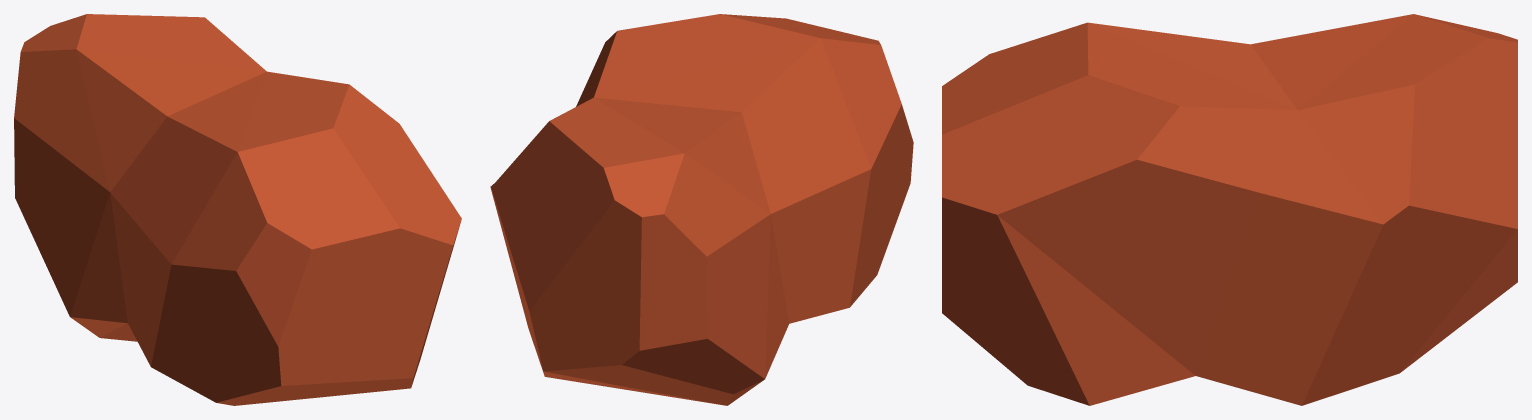
File: Rock_05.fbx
3 renders of one model, left to right at view 1: azimuth 30°, elevation 25°; view 2: azimuth 150°, elevation 25°; view 3: azimuth 270°, elevation 25°, orthographic. The views are drawn at different scales.
Parts seen in each view (by area): view 1: Rock_05; view 2: Rock_05; view 3: Rock_05.
Part boxes in pixels (left/top/right/bottom): Rock_05: left=14, top=14, right=461, bottom=405; Rock_05: left=490, top=14, right=913, bottom=405; Rock_05: left=942, top=14, right=1517, bottom=405.
Size of the model in its own units: 332 by 346 by 612.
Materials: 1 (1 with a texture image).
